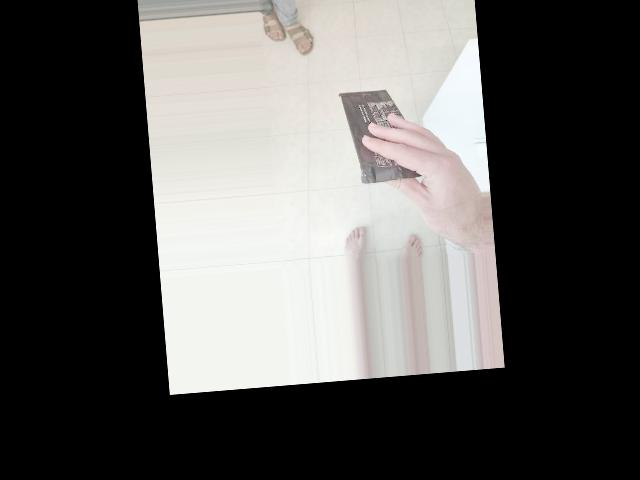chocolate: (261, 57, 374, 151)
